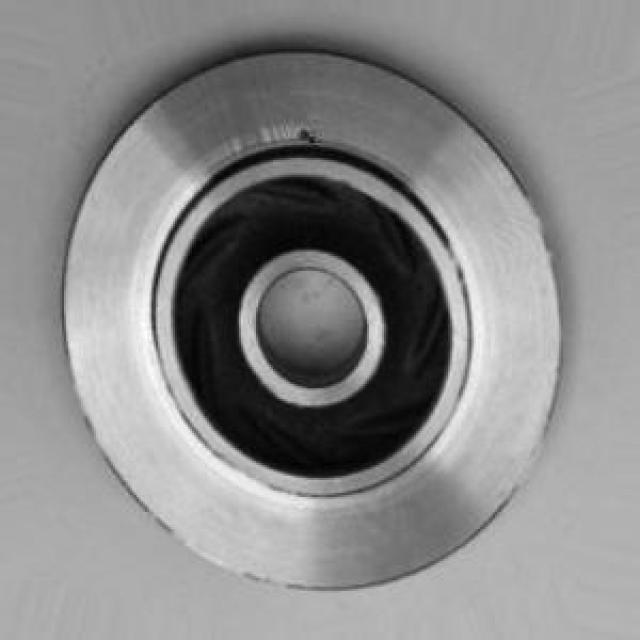Defect: (293, 116, 334, 154)
